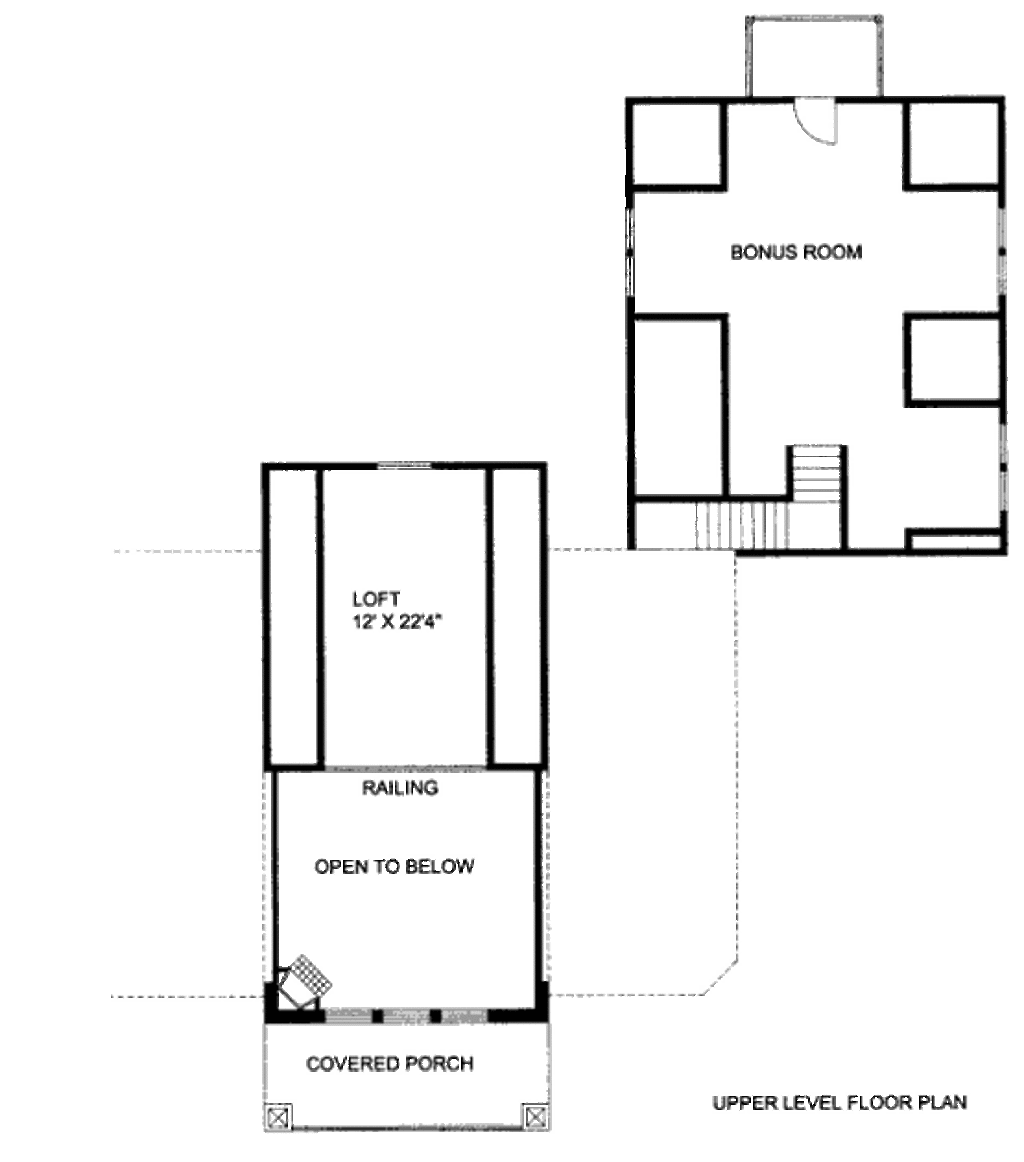door: (791, 92, 850, 151)
stairs: (632, 417, 856, 549)
window: (322, 1010, 489, 1028), (618, 199, 638, 295), (373, 454, 434, 476), (993, 198, 1005, 298), (1002, 415, 1013, 510)
